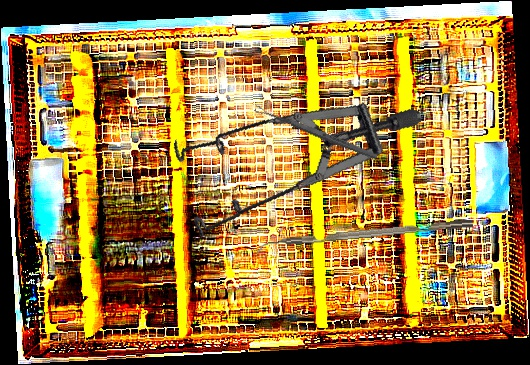Chopper: (255, 219, 475, 257)
Speculum: (152, 52, 424, 284)
Surgical Spoon: (253, 104, 379, 161)
